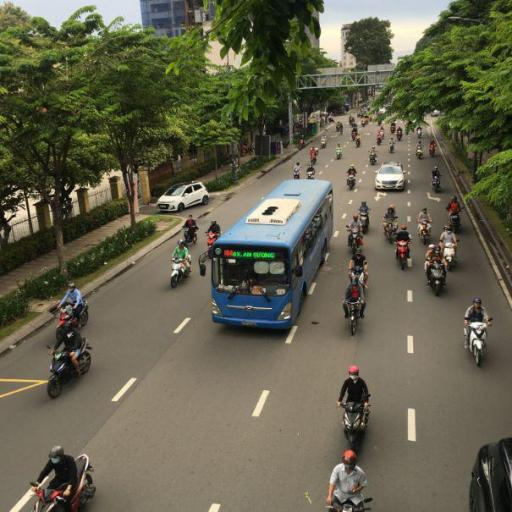bus: (207, 177, 335, 332)
car: (156, 184, 212, 214), (375, 163, 407, 193)
motorcycle: (47, 336, 94, 399), (338, 397, 372, 455), (464, 321, 490, 366), (426, 256, 448, 296), (342, 283, 365, 319), (394, 232, 412, 271), (170, 260, 192, 288), (432, 170, 442, 192), (347, 176, 357, 191)
